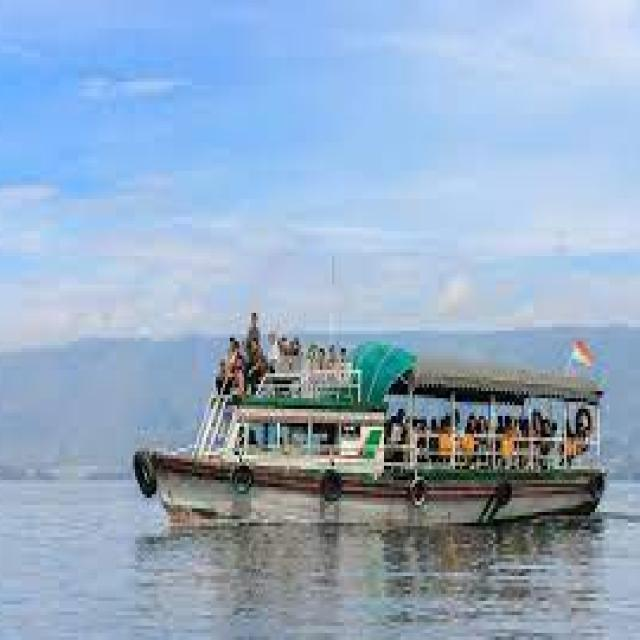passenger ship: (131, 315, 612, 535)
